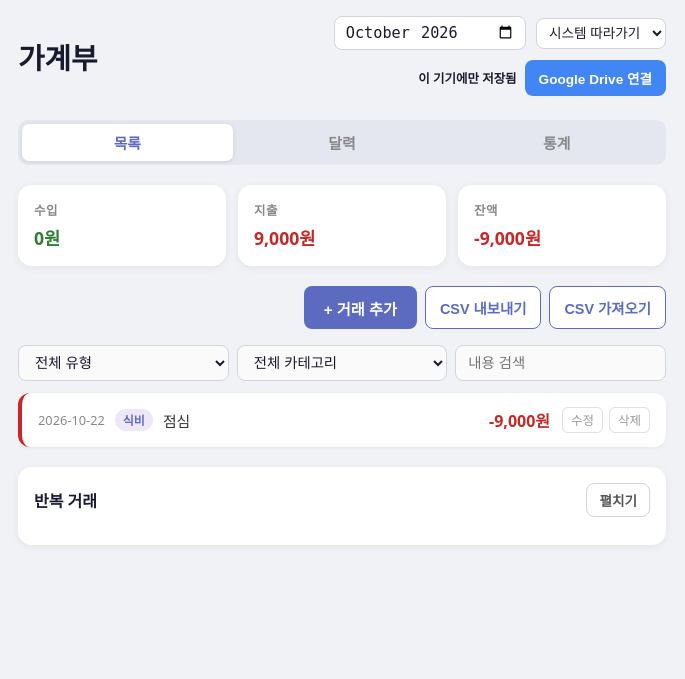
Test: (ix) 삭제 후 실행 취소하면 localStorage 에서 복원된다
The width and height of the screenshot is (685, 679).
Click the button with aria-label "삭제: 점심". click: (630, 420)
box: 609,407 -> 650,433
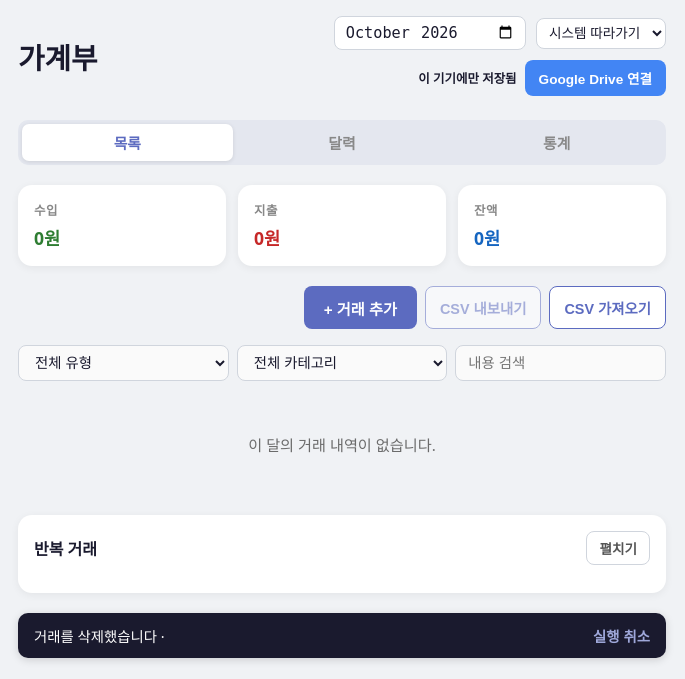
Click the button "실행 취소". click: (622, 636)
box: 593,625 -> 650,646
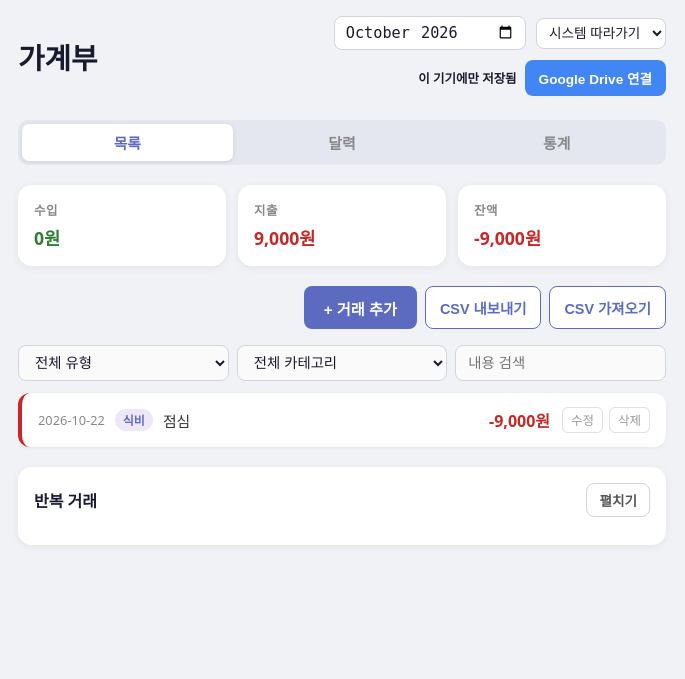
Now the text "점심" is shown, box 163,410 -> 190,430
